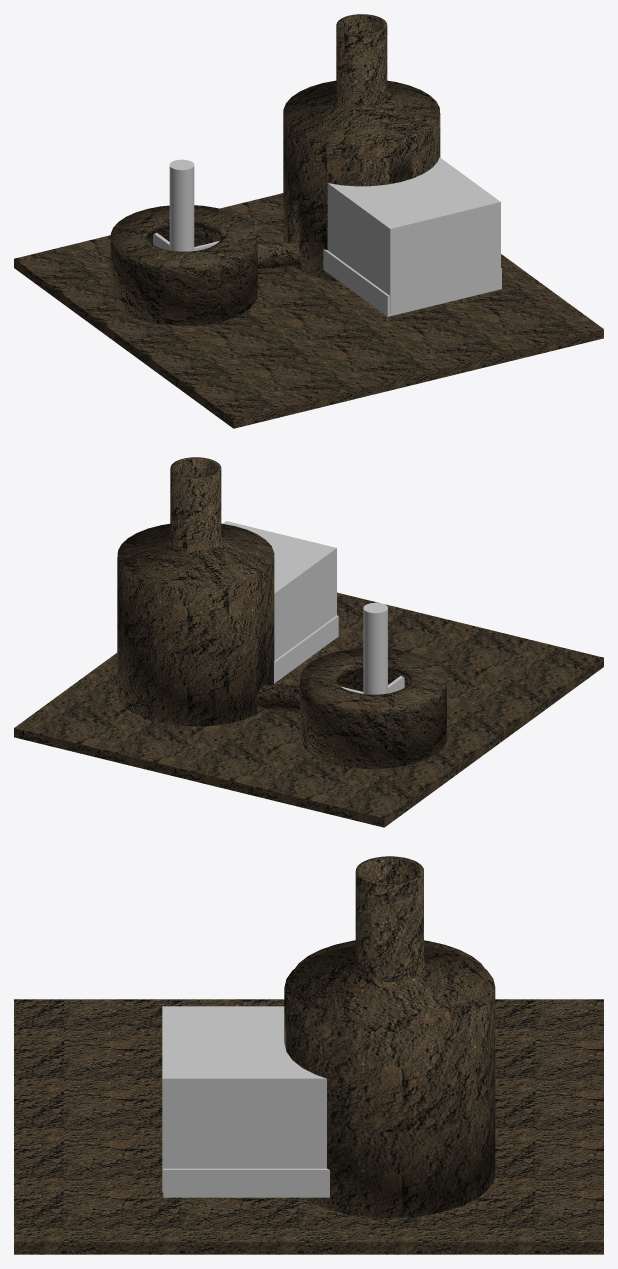
File: Crisol.obj
3 renders of one model, top to bottom at view 1: azimuth 30°, elevation 25°; view 2: azimuth 150°, elevation 25°; view 3: azimuth 270°, elevation 25°, orthographic. The views are drawn at different scales.
Parts seen in each view (by area): view 1: Plane, Cube.003_Cube.004, Plane.001, Cube.002; view 2: Plane, Cube.003_Cube.004, Plane.001, Cube.002; view 3: Plane, Cube.003_Cube.004, Cube.002.
Part boxes in pixels (x1,y1,x2,y2): Plane: (14,14,603,428); Cube.003_Cube.004: (327,157,500,313); Plane.001: (153,159,219,251); Cube.002: (323,249,501,316); Plane: (14,457,603,827); Cube.003_Cube.004: (223,521,336,660); Plane.001: (341,602,404,694); Cube.002: (274,615,338,683); Plane: (14,856,603,1254); Cube.003_Cube.004: (162,1006,326,1192); Cube.002: (163,1168,329,1197).
Size of the model in its own units: 6.47 by 3.94 by 6.65.
4 materials, 3 textured.
